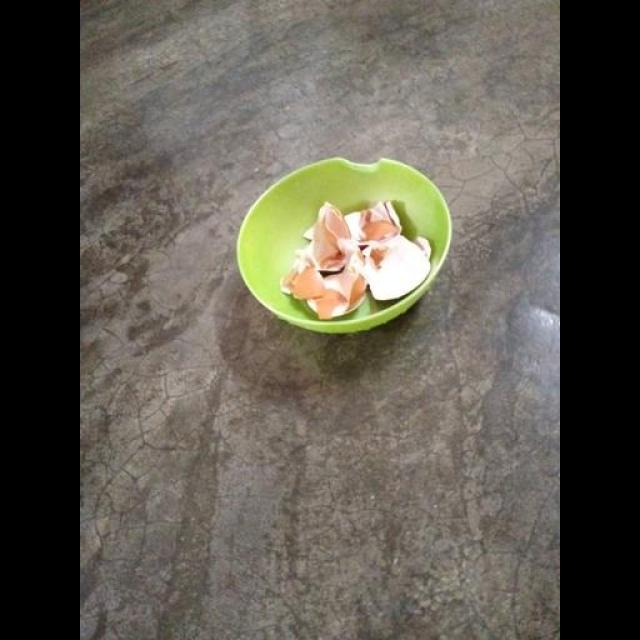organic: (238, 158, 451, 332)
